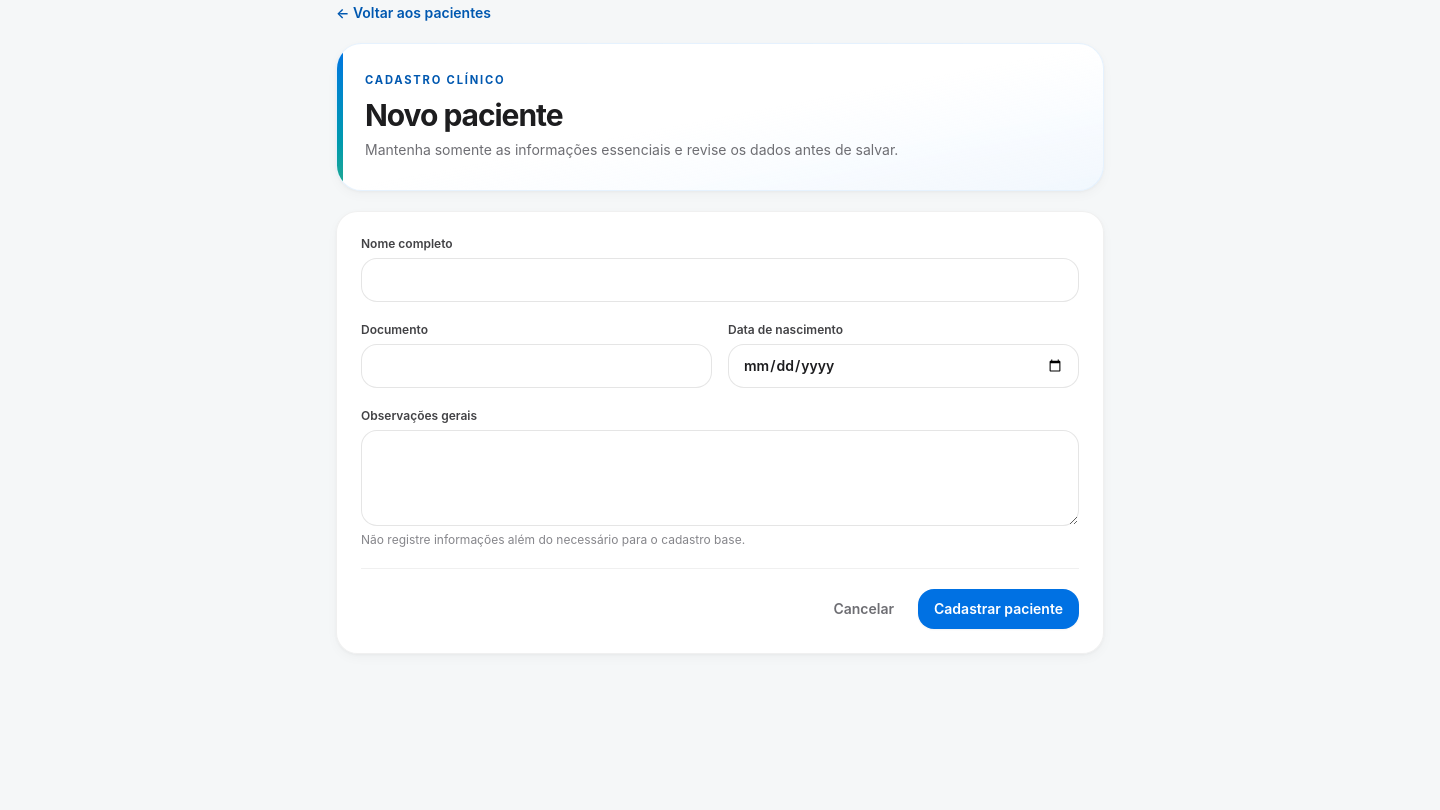
Scenario: páginas da base › salva um novo paciente com campos controlados
The width and height of the screenshot is (1440, 810).
Type "Ana Lima" into the field labelled "Nome completo" at [720, 280], box [361,258,1079,302]
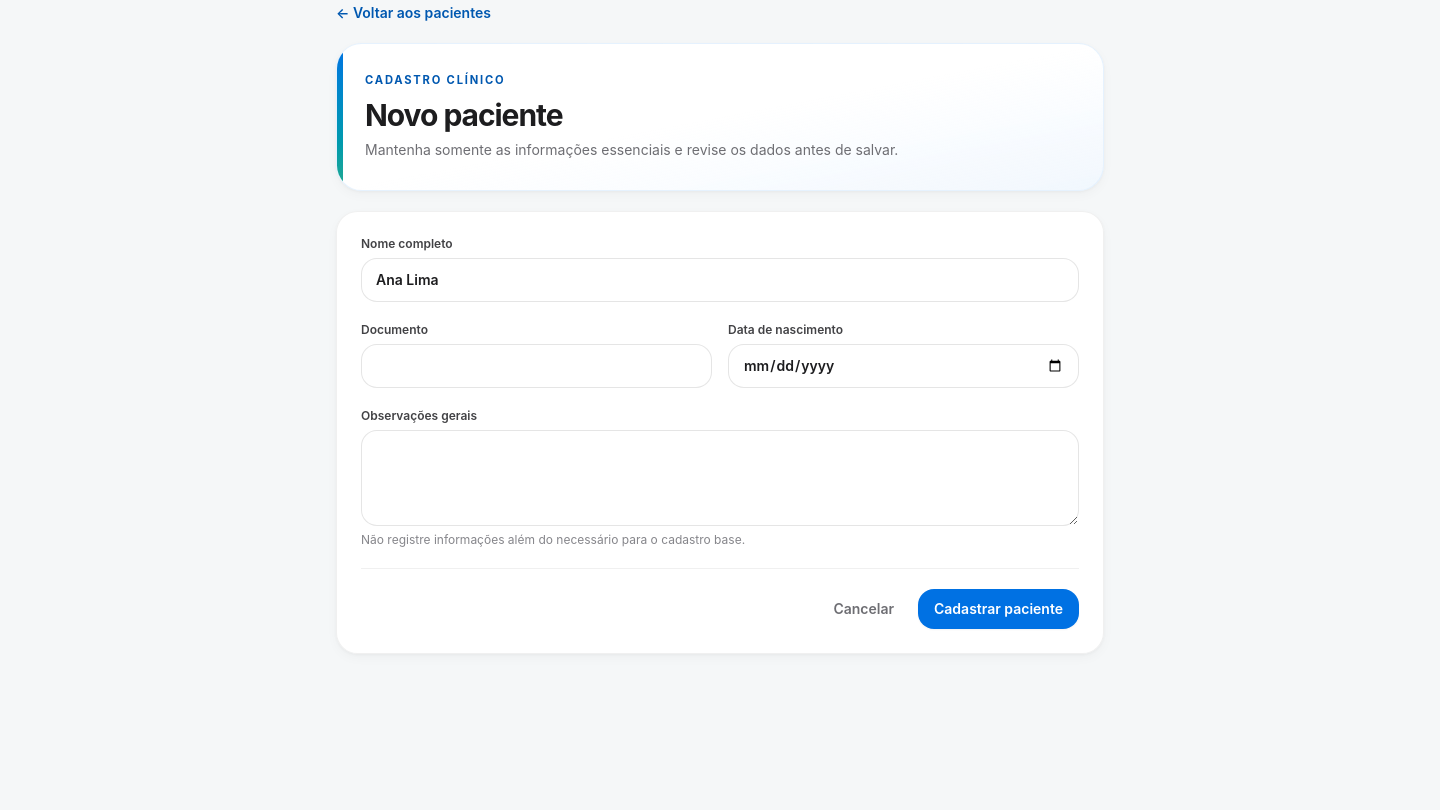
Type "12345678901" into the field labelled "Documento" at [536, 366], box [361,344,712,388]
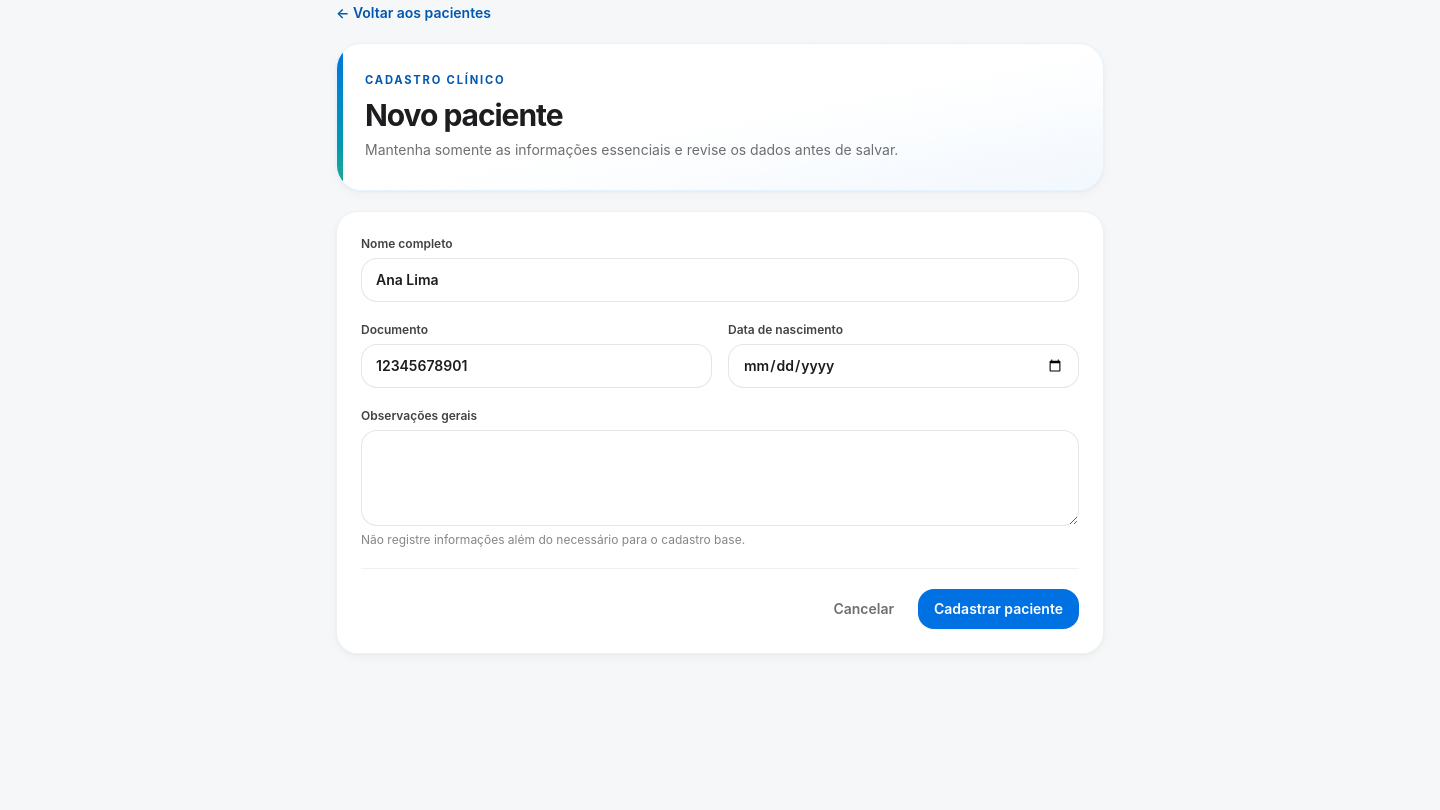
Type "1990-01-01" into the date field labelled "Data de nascimento" at [904, 366], box [728,344,1079,388]
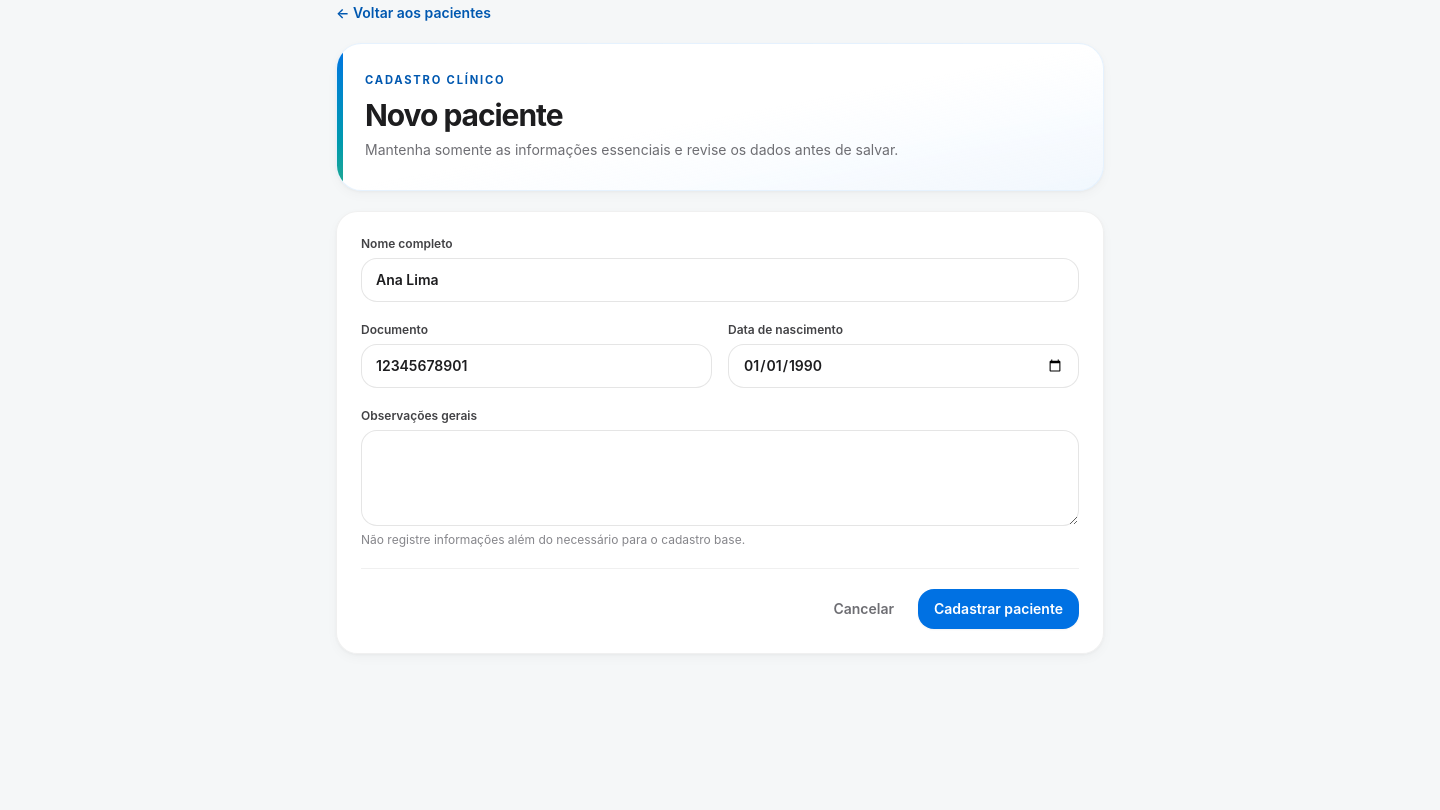
Type "Retorno" into the text box labelled "Observações gerais" at [720, 478], box [361,430,1079,526]
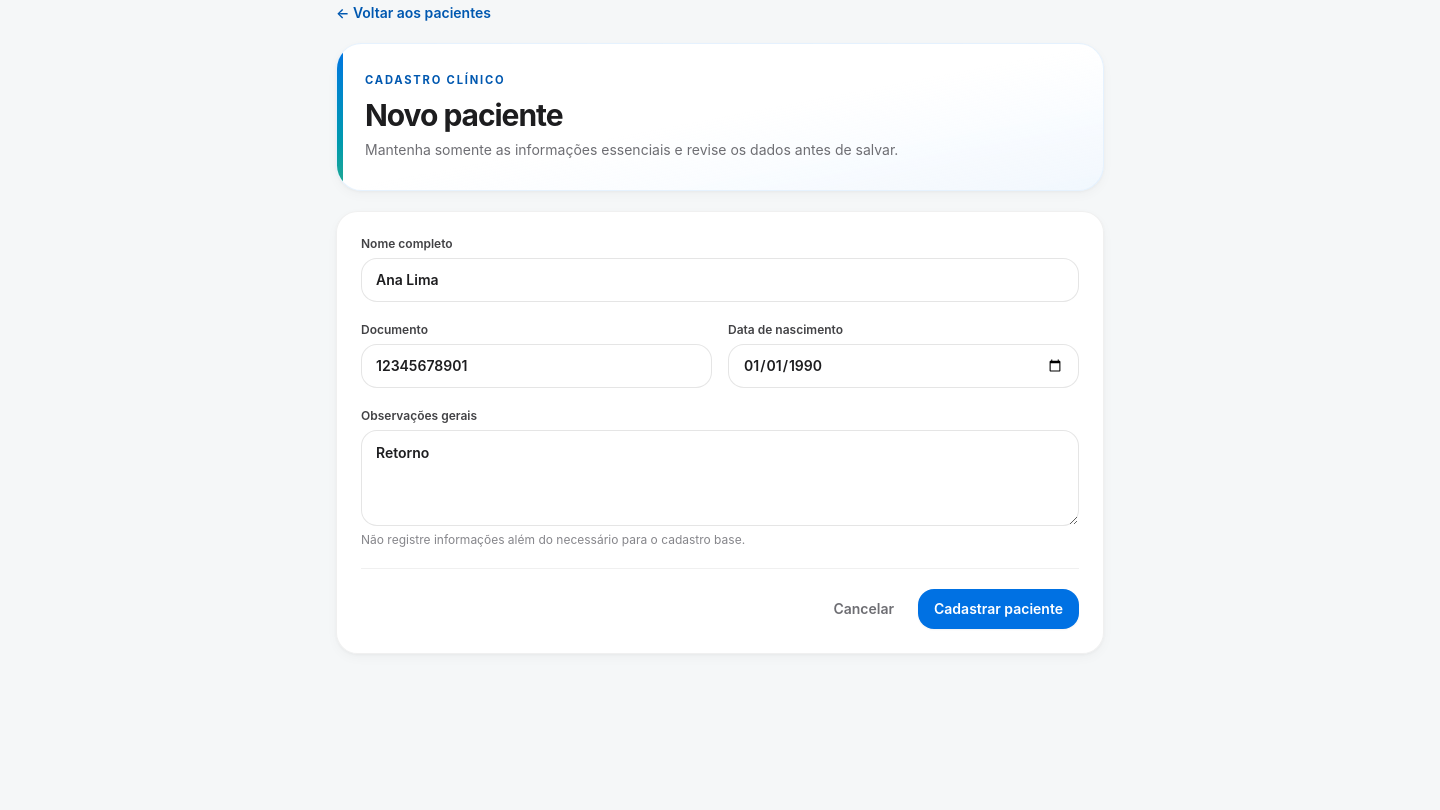
Click the button "Cadastrar paciente" at [998, 608], box [918,588,1079,628]
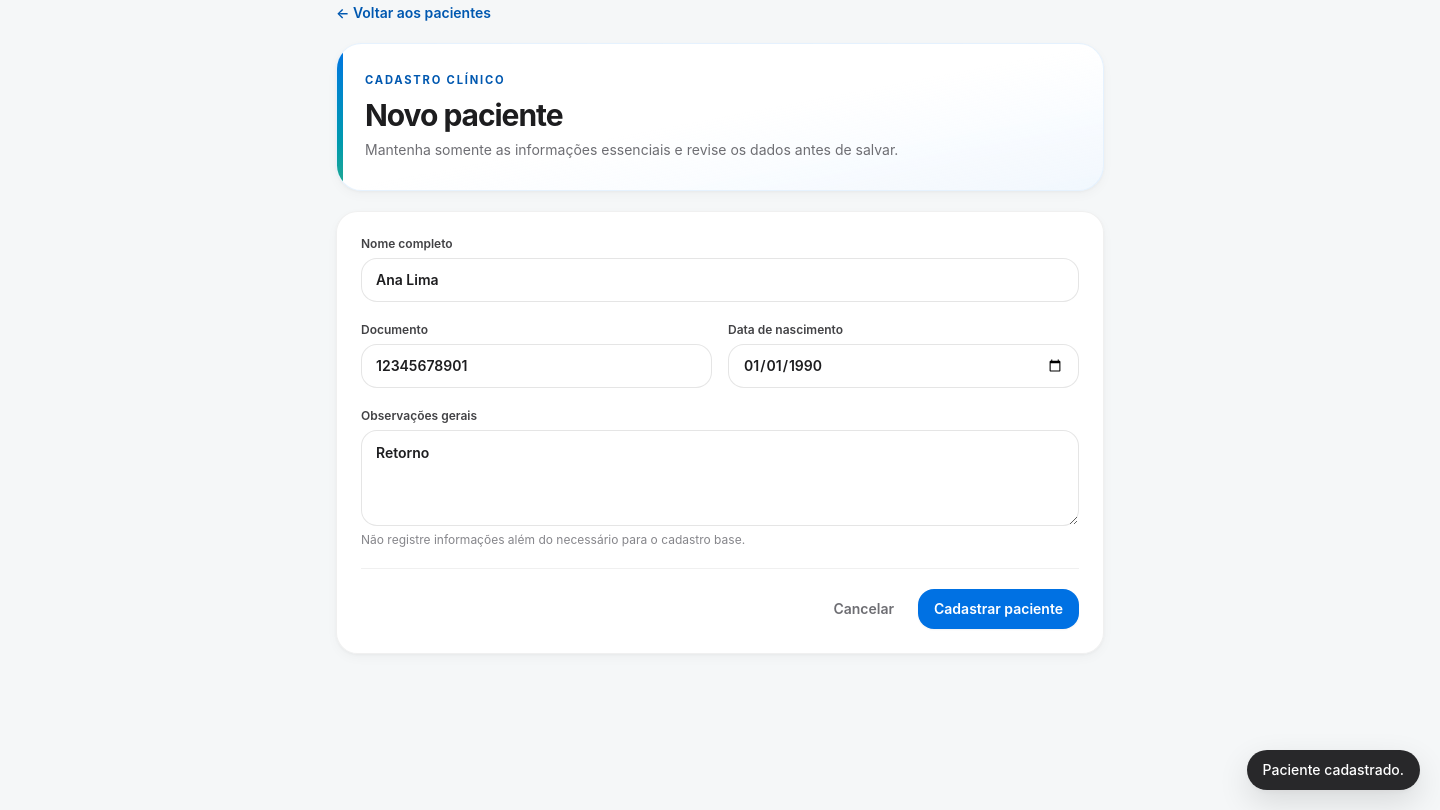
Now the text "Paciente cadastrado." is shown, box [1246,750,1420,790]
